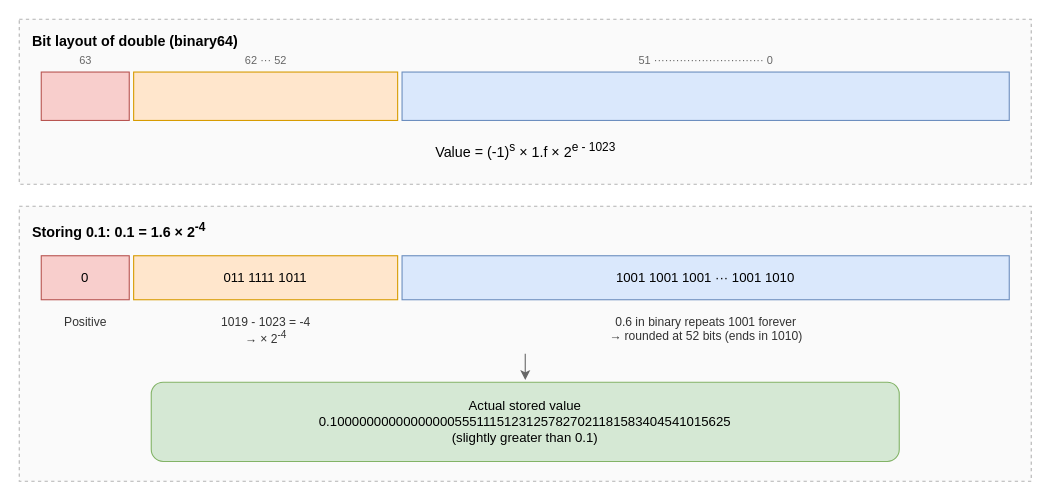
This 1051x501 diagram has some shape labels left out. The shapes that lost their labels are listed below. From the top down, each one's centre as x and y in pixels, then its label:
point 84,95: Sign s (1 bit)
point 265,95: Exponent e (11 bits)
point 705,95: Fraction f (52 bits)
